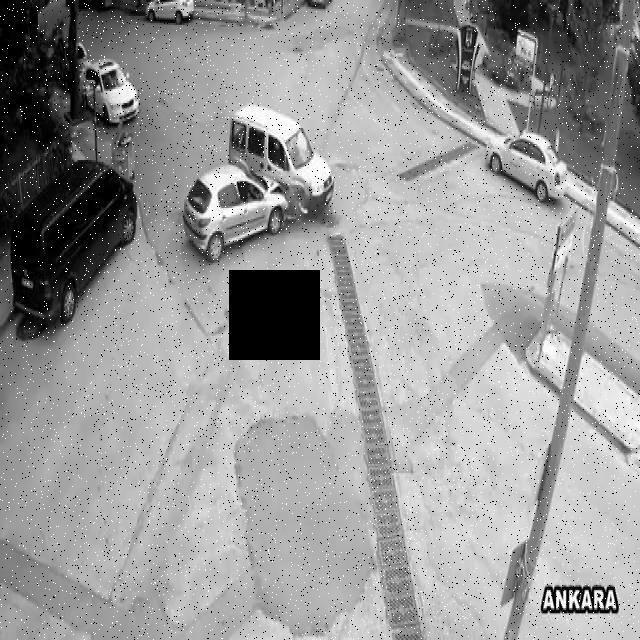accident: (178, 99, 334, 265)
vehicle: (11, 158, 139, 322), (488, 128, 570, 208), (77, 56, 145, 134), (138, 0, 198, 27)
